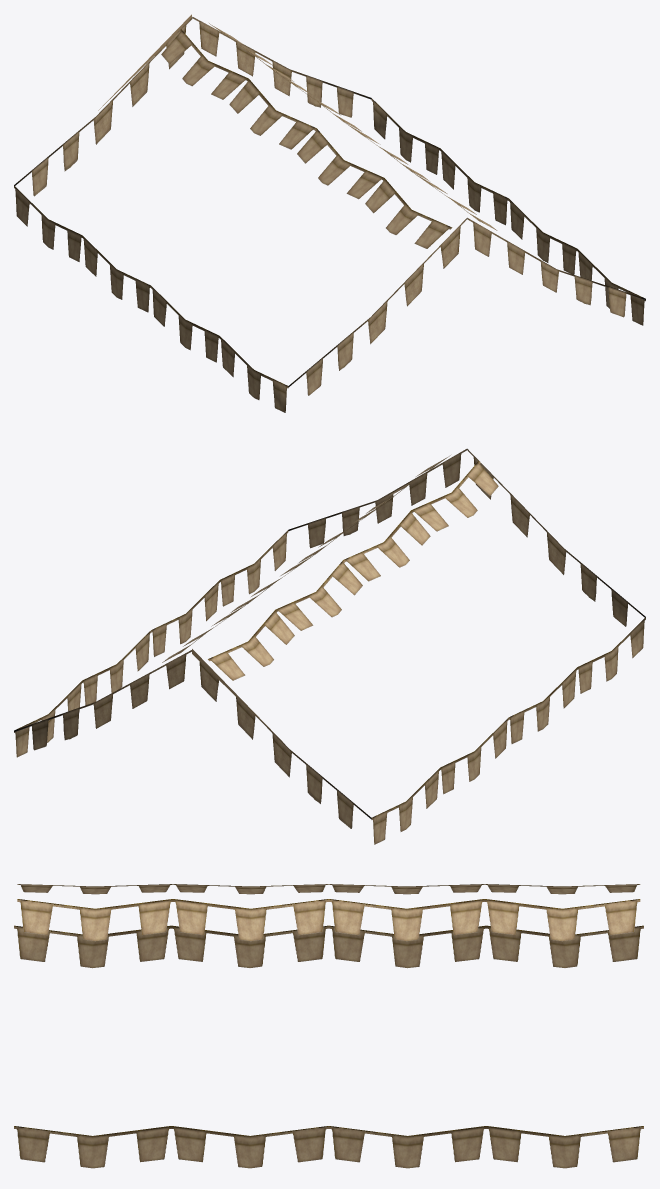
The model's file is rome_tent_c_flaps.dae.
3 renders of one model, top to bottom at view 1: azimuth 30°, elevation 25°; view 2: azimuth 150°, elevation 25°; view 3: azimuth 270°, elevation 25°, orthographic. The views are drawn at different scales.
Parts seen in each view (by area): view 1: rome_sb_tent_transp002; view 2: rome_sb_tent_transp002; view 3: rome_sb_tent_transp002.
Part boxes in pixels (left/top/right/bottom): rome_sb_tent_transp002: left=14, top=14, right=645, bottom=412; rome_sb_tent_transp002: left=14, top=448, right=645, bottom=844; rome_sb_tent_transp002: left=14, top=884, right=643, bottom=1168.
Size of the model in its own units: 5.38 by 2.43 by 7.18.
